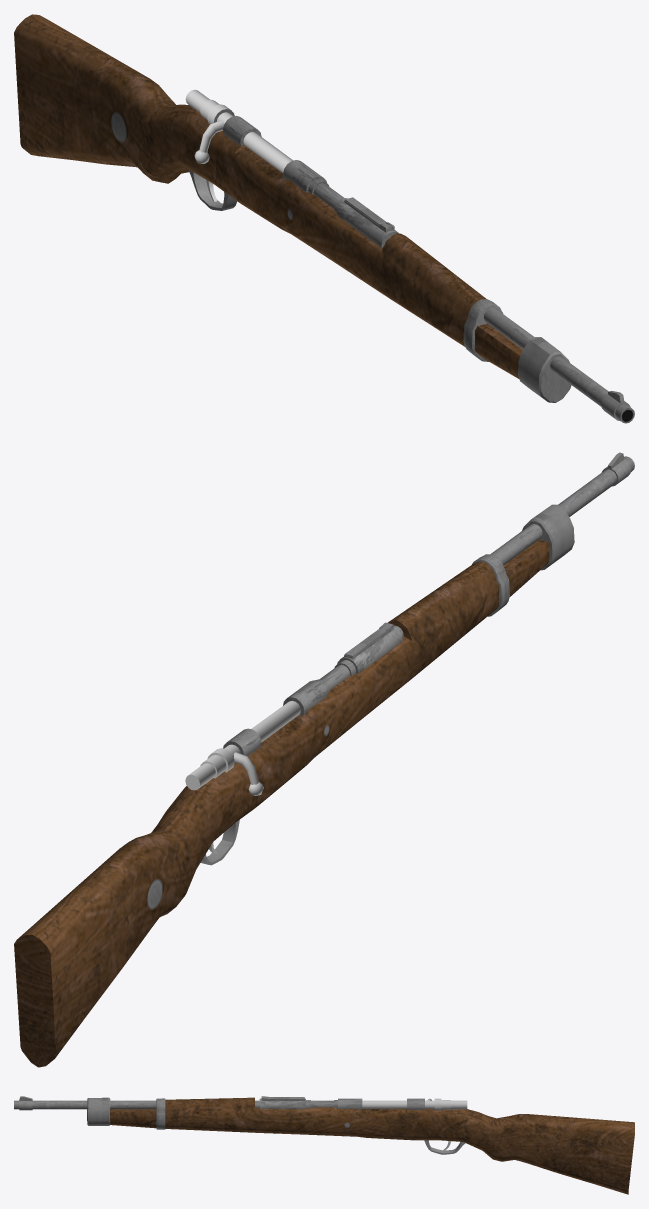
The picture shows the model from 3 angles, top to bottom: view 1: azimuth 30°, elevation 25°; view 2: azimuth 150°, elevation 25°; view 3: azimuth 270°, elevation 25°; orthographic projection. The views are drawn at different scales.
Visible parts, largest first — view 1: 毛瑟98K; view 2: 毛瑟98K; view 3: 毛瑟98K.
Boxes of the visible parts, <box> form: 毛瑟98K: <box>14,14,634,423</box>; 毛瑟98K: <box>14,452,634,1067</box>; 毛瑟98K: <box>14,1096,634,1194</box>.
Bounding box in the file's own units: 0.0617 × 0.2123 × 1.22.
